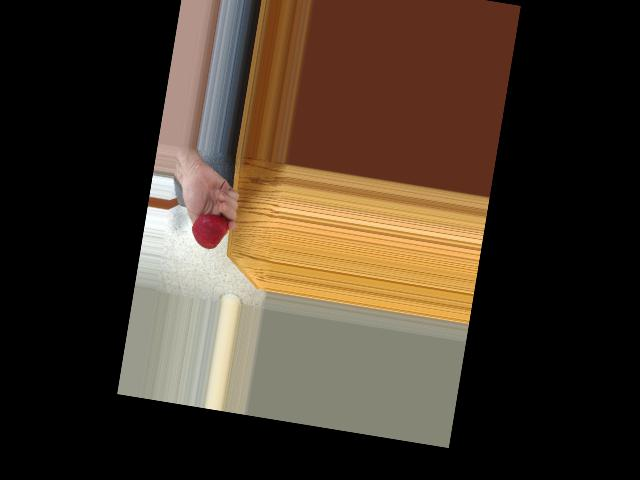apple: (188, 210, 230, 253)
